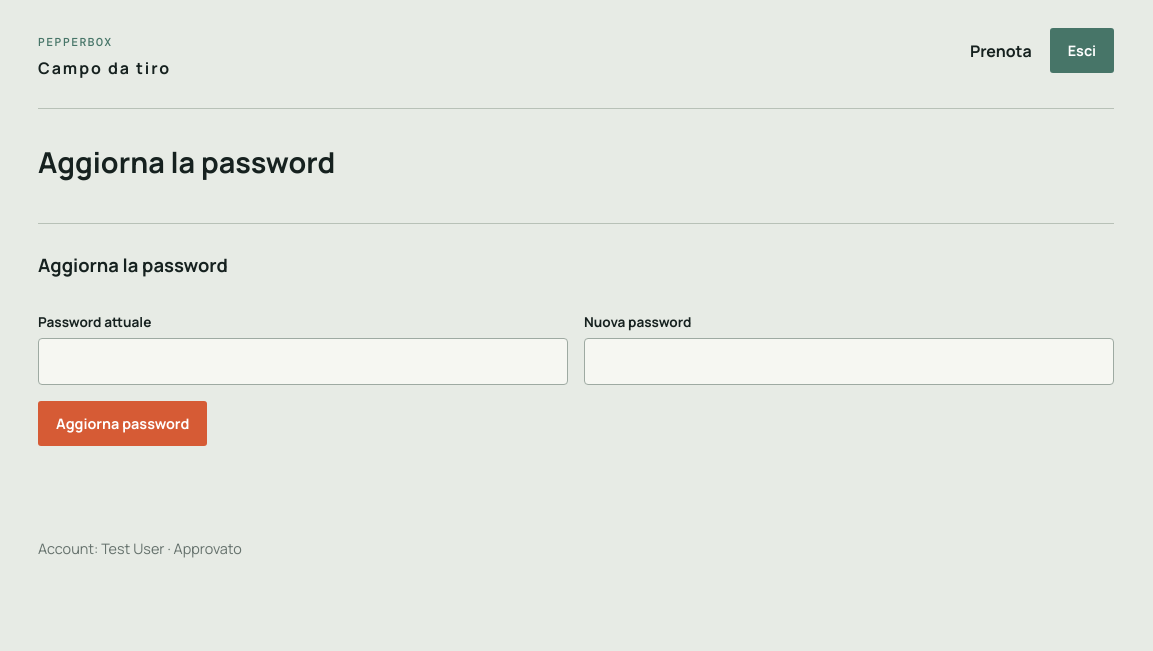
Test: Range session recovery › keeps the signed-in state when logout fails and offers a retry
Click the button "Esci" at (1082, 50), box [1050,28,1114,73]
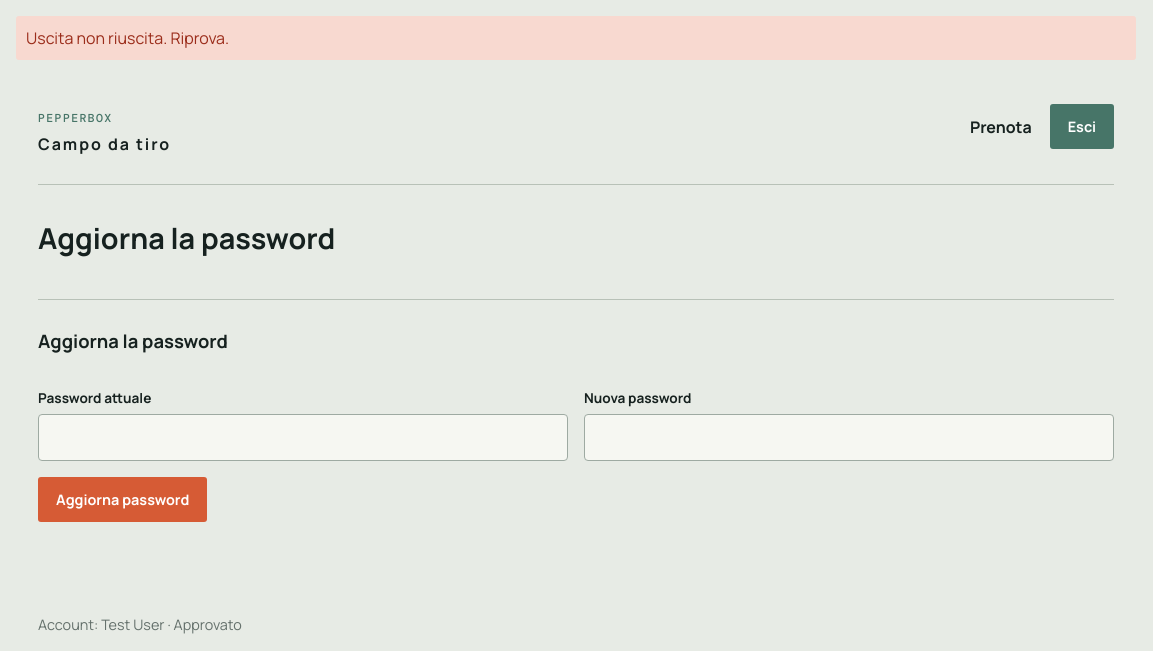
Check: the text "Aggiorna la password" is shown, box [38,218,335,258]
Check: the text "Uscita non riuscita. Riprova." is shown, box [16,16,1136,60]
Click the button "Esci" at (1082, 126), box [1050,104,1114,149]
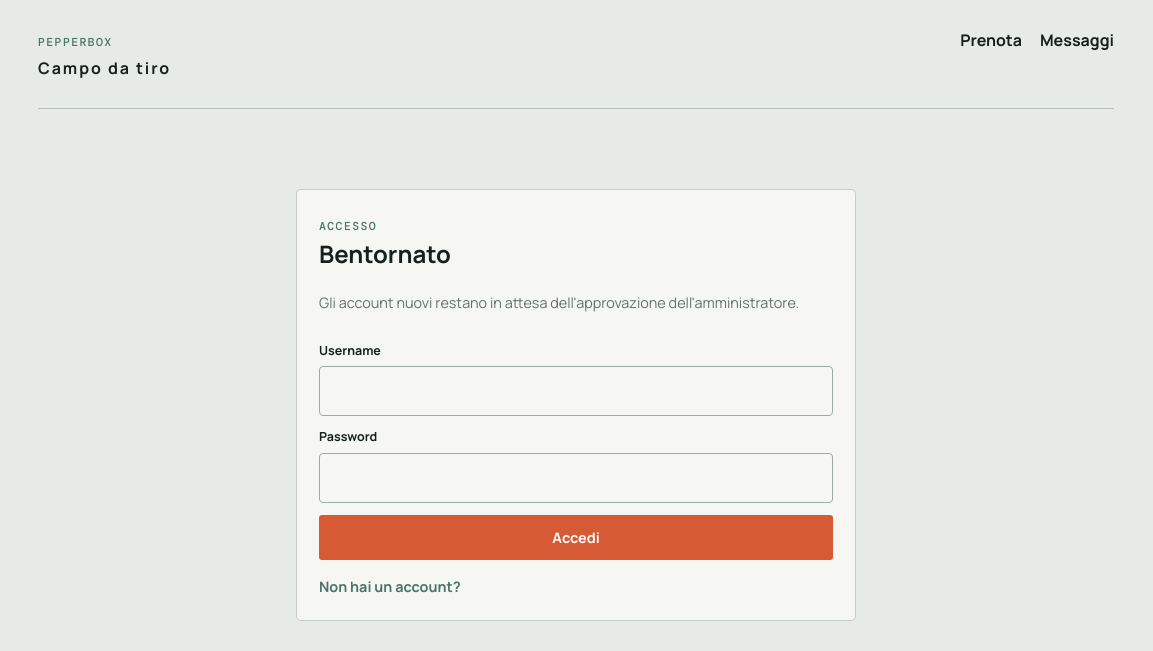
Check: the text "Bentornato" is shown, box [319,237,451,270]
